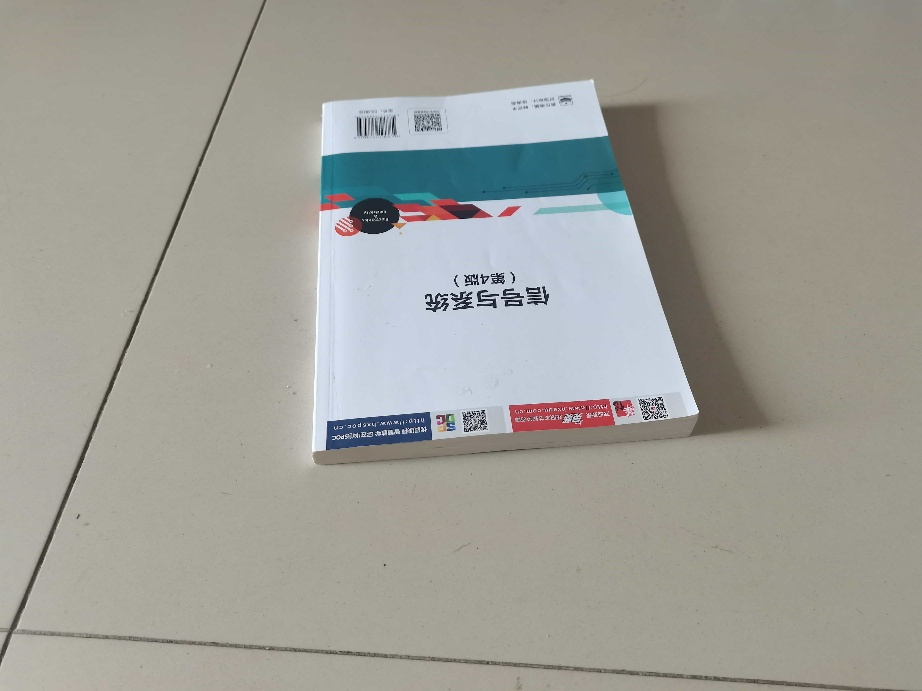book: (297, 67, 713, 478)
